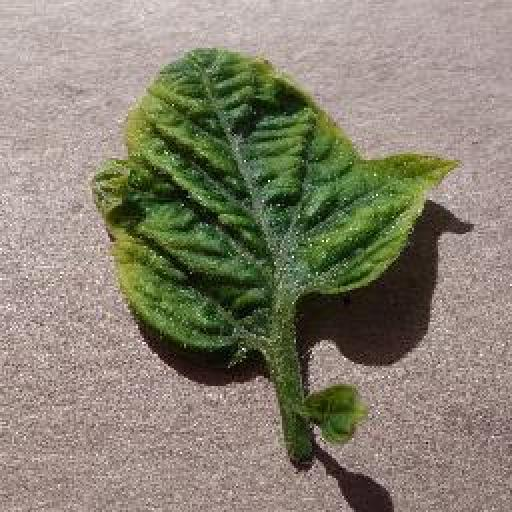disease_tomato: (95, 48, 464, 348)
